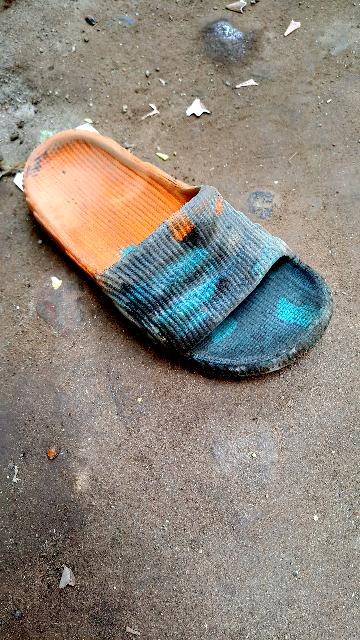sandal: (0, 98, 350, 407)
